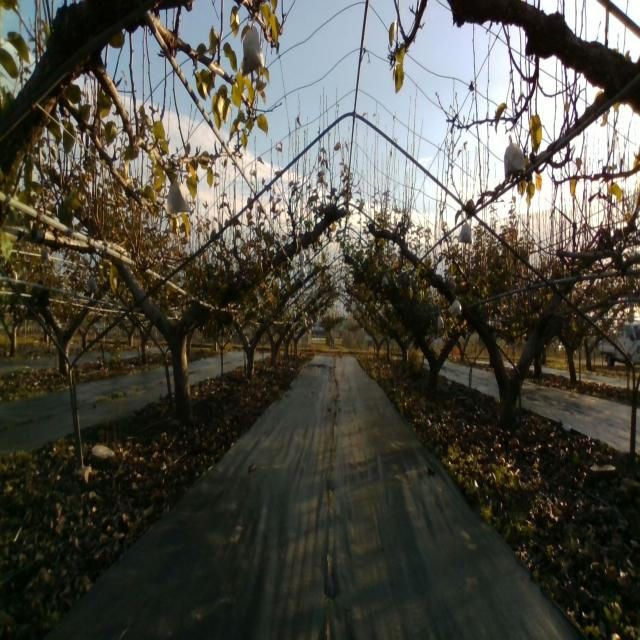pearbags: (241, 24, 265, 78), (503, 133, 526, 178), (166, 179, 191, 214), (458, 216, 474, 247), (450, 295, 462, 314)
